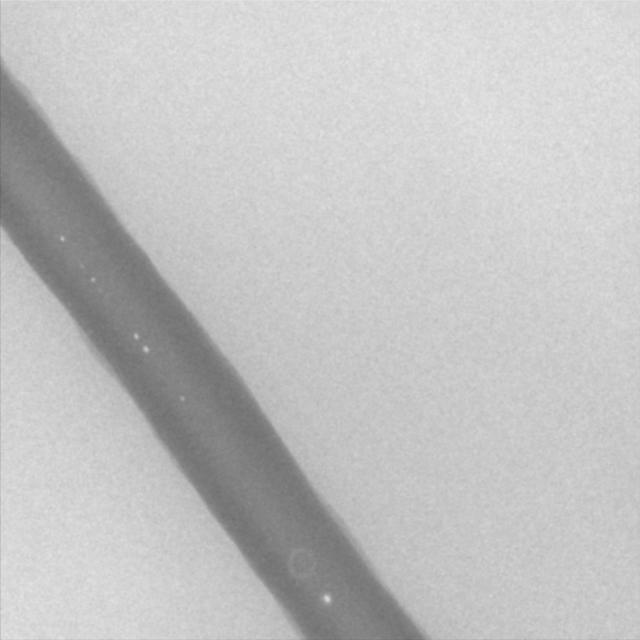air hole: (321, 592, 332, 604), (57, 233, 66, 244), (141, 343, 149, 355), (131, 329, 139, 341), (177, 393, 185, 404), (90, 275, 96, 285)
hollow bead: (286, 544, 319, 578)
